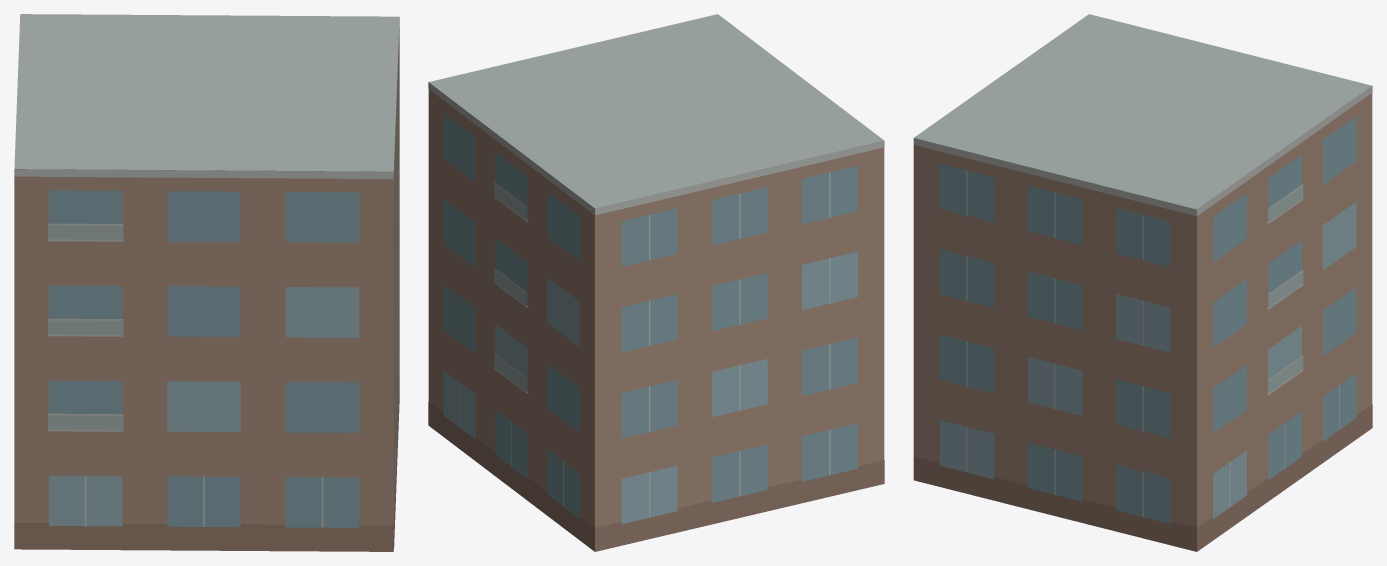
The model's file is residential-30124be3-24db-4504-a4cb-502424a52ab0.glb.
3 renders of one model, left to right at view 1: azimuth 30°, elevation 25°; view 2: azimuth 150°, elevation 25°; view 3: azimuth 270°, elevation 25°, orthographic. The views are drawn at different scales.
Visible parts, largest first — view 1: residential-30124be3-24db-4504-a4cb-502424a52ab0.tmp; view 2: residential-30124be3-24db-4504-a4cb-502424a52ab0.tmp; view 3: residential-30124be3-24db-4504-a4cb-502424a52ab0.tmp.
Boxes of the visible parts, left/top/right/bottom form: residential-30124be3-24db-4504-a4cb-502424a52ab0.tmp: left=14, top=14, right=399, bottom=551; residential-30124be3-24db-4504-a4cb-502424a52ab0.tmp: left=428, top=14, right=884, bottom=551; residential-30124be3-24db-4504-a4cb-502424a52ab0.tmp: left=913, top=14, right=1372, bottom=551.
Size of the model in its own units: 14.95 by 12.2 by 14.83.
